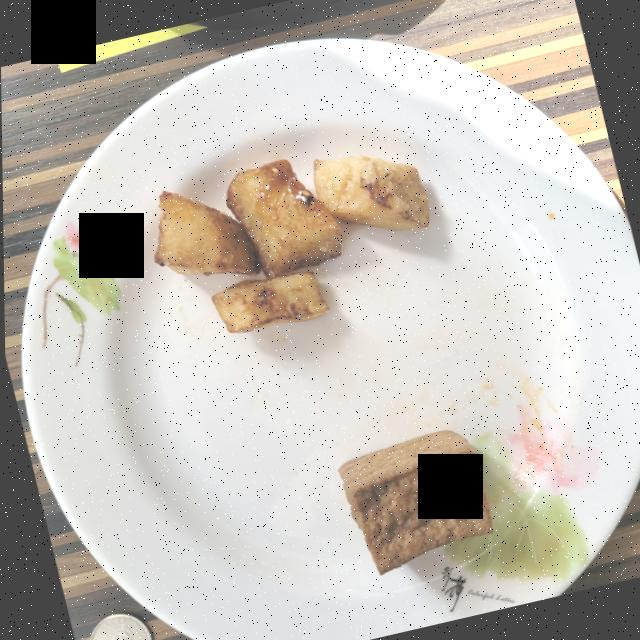coin: (88, 612, 149, 640)
egg tofu: (337, 429, 491, 574)
fried potato: (153, 154, 428, 332)
